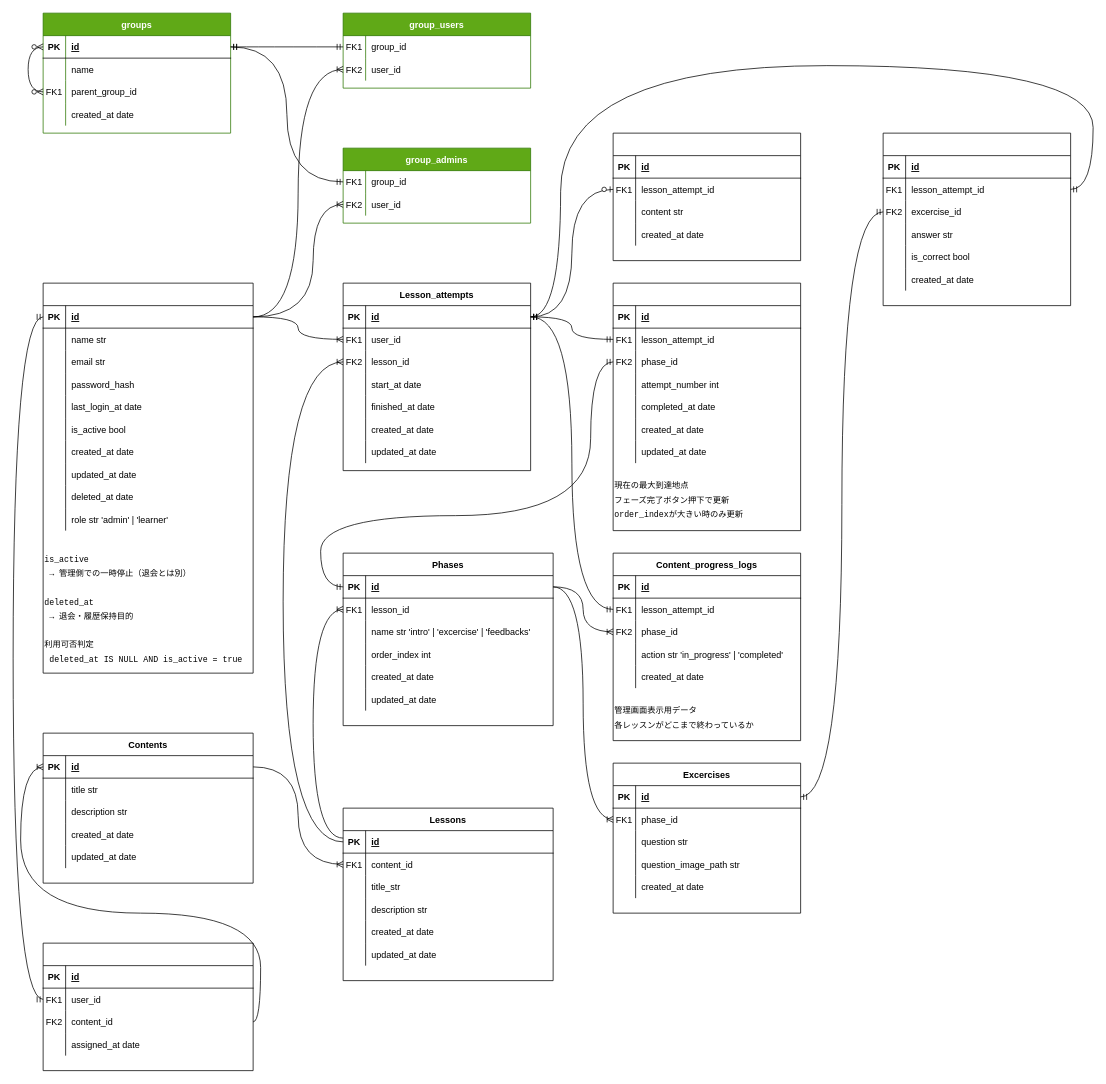
Image size: 1106x1084. Some labels were removed from this diagram. The shapes that lost their labels are listed below. From the top down, each one's box as (x1, y1, x2, y2) in pixels, then its label:
(612, 132, 801, 261): Feedbacks
(882, 132, 1071, 306): Excercise_learner_answers
(612, 282, 801, 531): Content_progresses
(42, 282, 253, 673): Users
(42, 942, 253, 1071): User_assigns
